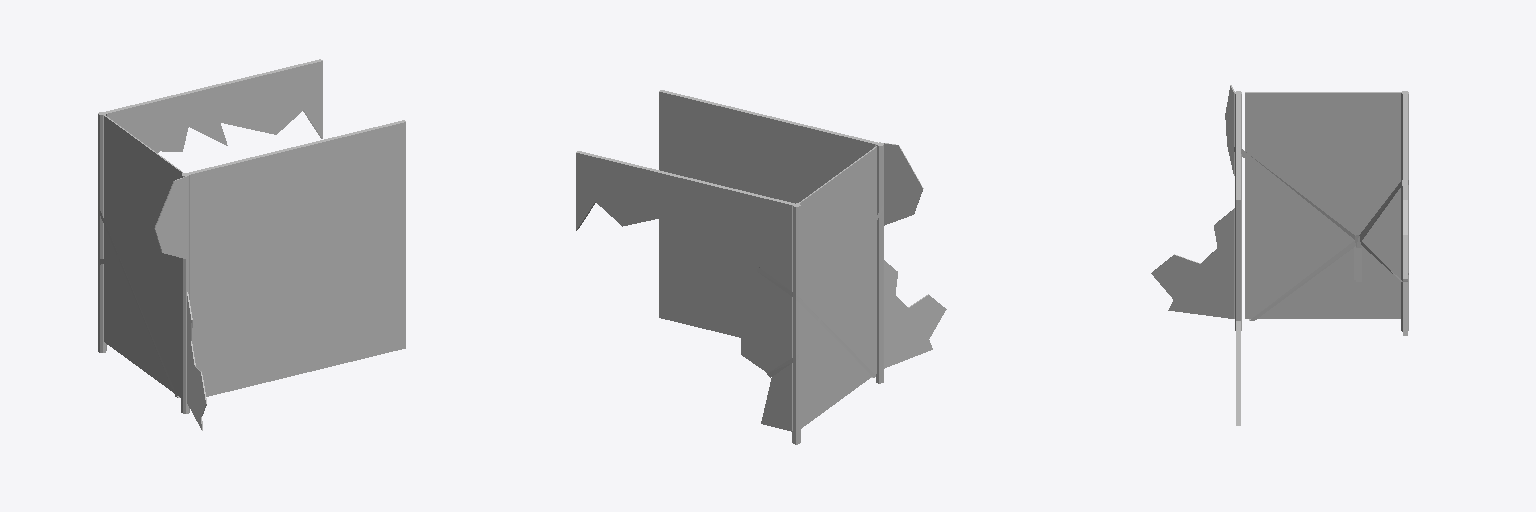
File: hor1 toilet2 doors.obj
3 renders of one model, left to right at view 1: azimuth 30°, elevation 25°; view 2: azimuth 150°, elevation 25°; view 3: azimuth 270°, elevation 25°, orthographic.
Visible parts, largest first — view 1: toilet_2_door_Plane.030; view 2: toilet_2_door_Plane.030; view 3: toilet_2_door_Plane.030.
Boxes of the visible parts, box(x1,y1,x2,y2) form: toilet_2_door_Plane.030: box(98, 59, 405, 430); toilet_2_door_Plane.030: box(576, 90, 946, 444); toilet_2_door_Plane.030: box(1151, 85, 1408, 425).
Size of the model in its own units: 2.37 by 2.1 by 2.07.